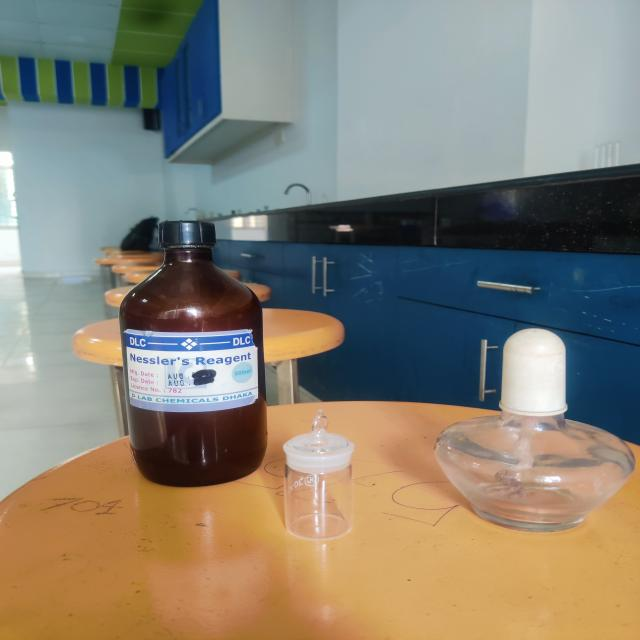Nessler_Reagent_Bottle: (68, 207, 276, 502)
Spirit_Lamp: (414, 303, 640, 559)
Weighing_Bottle: (265, 387, 381, 554)
